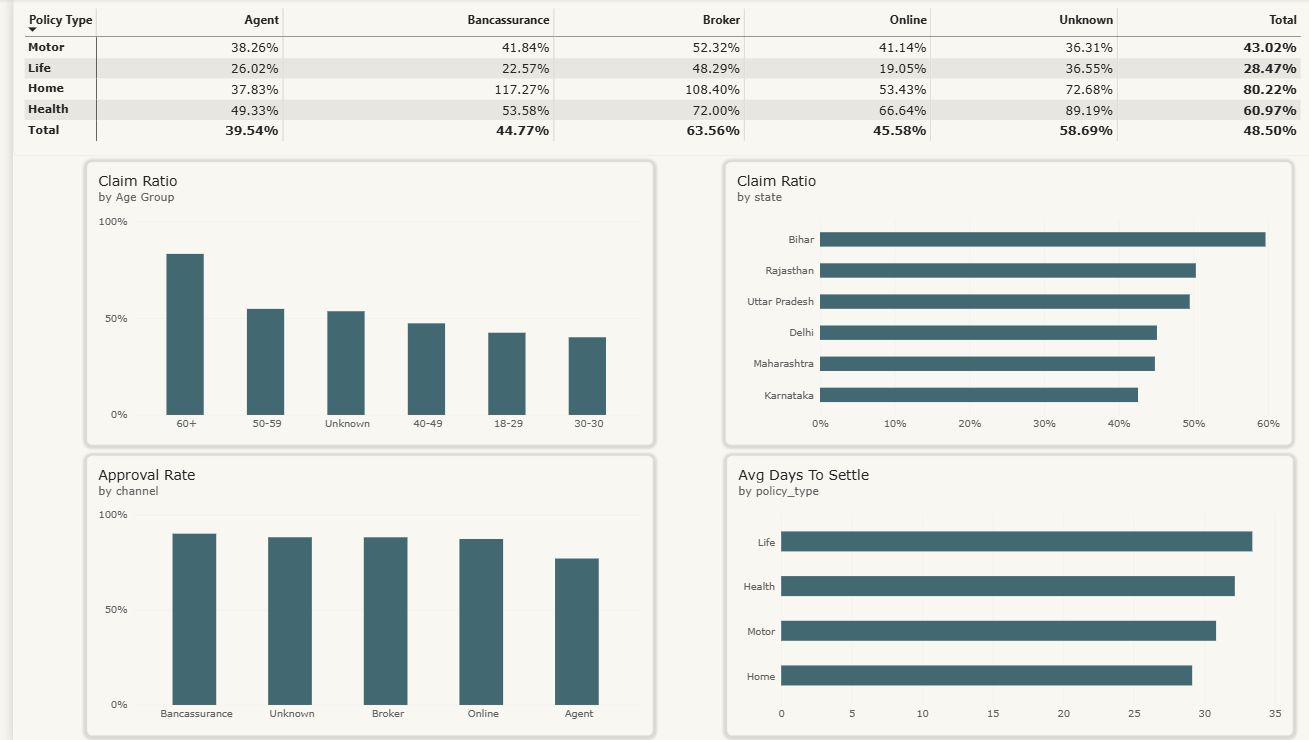

What the dashboard file says about the page in this screenshot:
{"tool":"powerbi","page":{"name":"Deep Dive","canvas":[1920,1080],"ordinal":1},"visuals":[{"type":"textbox","box":[10.1,0,1910.6,124.9],"z":0},{"type":"columnChart","fields":{"Category":["dim_policies.channel"],"Y":["Calendar.Approval Rate"]},"box":[106.8,662.3,819.8,405.4],"z":1000},{"type":"barChart","fields":{"Category":["dim_customers.state"],"Y":["Calendar.Claim Ratio"]},"box":[1031.5,237.1,819.8,410.8],"z":2000},{"type":"columnChart","fields":{"Category":["dim_customers.Age Group"],"Y":["Calendar.Claim Ratio"]},"box":[106.8,237.1,819.8,410.8],"z":3000},{"type":"barChart","fields":{"Category":["dim_policies.policy_type"],"Y":["Calendar.Avg Days To Settle"]},"box":[1033.3,662.3,819.8,405.4],"z":4000},{"type":"pivotTable","fields":{"Columns":["dim_policies.channel"],"Rows":["dim_policies.policy_type"],"Values":["Calendar.Claim Ratio"]},"box":[0,0,1885.7,229],"z":5000}]}

Visuals, with their boxes in screenshot pixels (x1, y1, x2, y2), scaled from the page's 1920x1080 canvas onto the 1309x740 screenshot:
textbox: bbox=(7, 0, 1308, 86)
columnChart - dim_policies.channel x Calendar.Approval Rate: bbox=(73, 454, 632, 732)
barChart - dim_customers.state x Calendar.Claim Ratio: bbox=(703, 162, 1262, 444)
columnChart - dim_customers.Age Group x Calendar.Claim Ratio: bbox=(73, 162, 632, 444)
barChart - dim_policies.policy_type x Calendar.Avg Days To Settle: bbox=(704, 454, 1263, 732)
pivotTable - dim_policies.channel x dim_policies.policy_type: bbox=(0, 0, 1286, 157)
